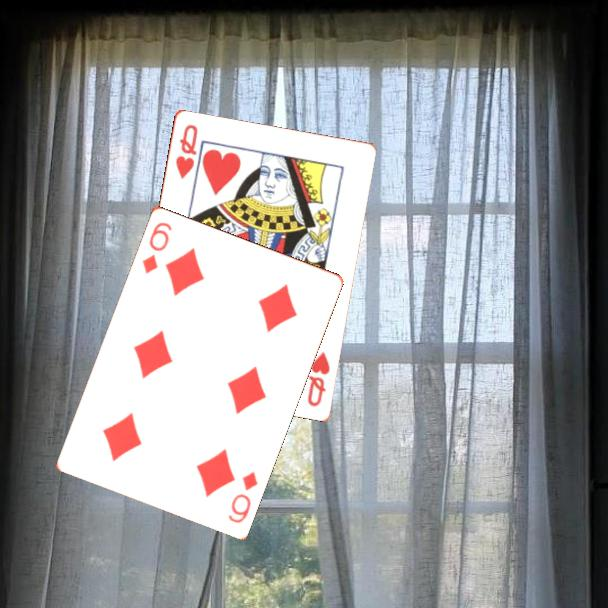d06: (138, 218, 175, 276), (224, 467, 260, 526)
h12: (304, 347, 332, 409), (172, 121, 200, 182)
